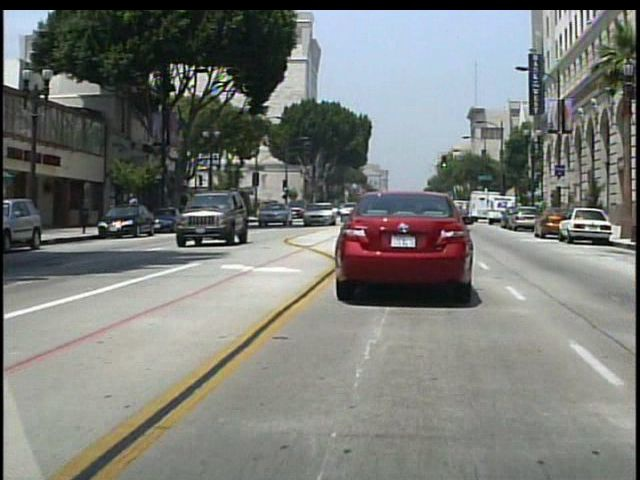person: (131, 192, 145, 226)
